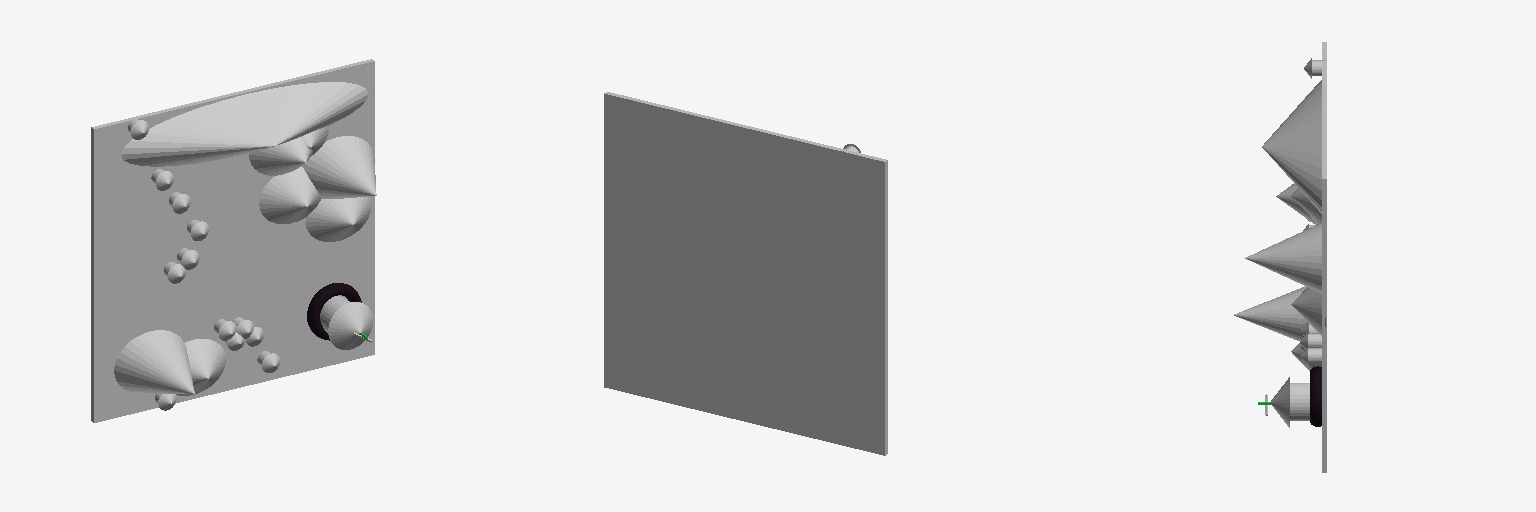
Rendered from 3_house_village_1.obj.
3 renders of one model, left to right at view 1: azimuth 30°, elevation 25°; view 2: azimuth 150°, elevation 25°; view 3: azimuth 270°, elevation 25°, orthographic.
Parts seen in each view (by area): view 1: Cube, Cone.007, Cone.014, Cone.011, Cone.009, Cone.012, Cone.020, Cone.013, Cone.008, Torus; view 2: Cube; view 3: Cone.007, Cone.011, Cube, Cone.014, Cone.020, Cone.012, Torus.
Part boxes in pixels (bbox=[...]): Cube: bbox=[91, 59, 374, 422]; Cone.007: bbox=[121, 82, 368, 166]; Cone.014: bbox=[114, 330, 194, 393]; Cone.011: bbox=[303, 136, 376, 198]; Cone.009: bbox=[259, 167, 321, 223]; Cone.012: bbox=[306, 197, 371, 241]; Cone.020: bbox=[320, 296, 372, 349]; Cone.013: bbox=[176, 339, 225, 395]; Cone.008: bbox=[249, 137, 312, 175]; Torus: bbox=[307, 283, 361, 340]; Cube: bbox=[604, 92, 887, 455]; Cone.007: bbox=[1262, 80, 1321, 213]; Cone.011: bbox=[1245, 223, 1321, 292]; Cube: bbox=[1322, 42, 1326, 472]; Cone.014: bbox=[1234, 286, 1306, 340]; Cone.020: bbox=[1270, 377, 1309, 427]; Cone.012: bbox=[1291, 287, 1325, 335]; Torus: bbox=[1310, 366, 1321, 426].
Bounding box in the file's own units: 80.26 × 80.72 × 23.4.